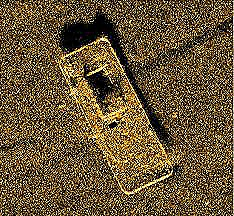ship: (56, 36, 174, 196)
